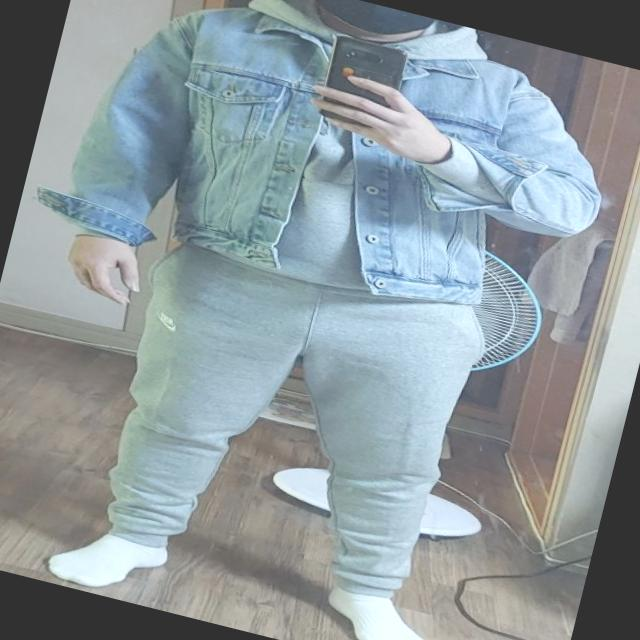jacket: (64, 0, 627, 354)
trainingpants: (88, 227, 488, 613)
